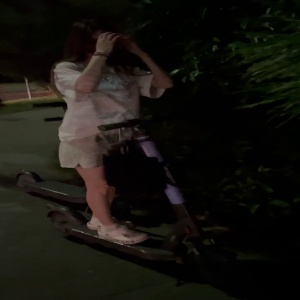human on a scooter: (41, 14, 239, 284)
